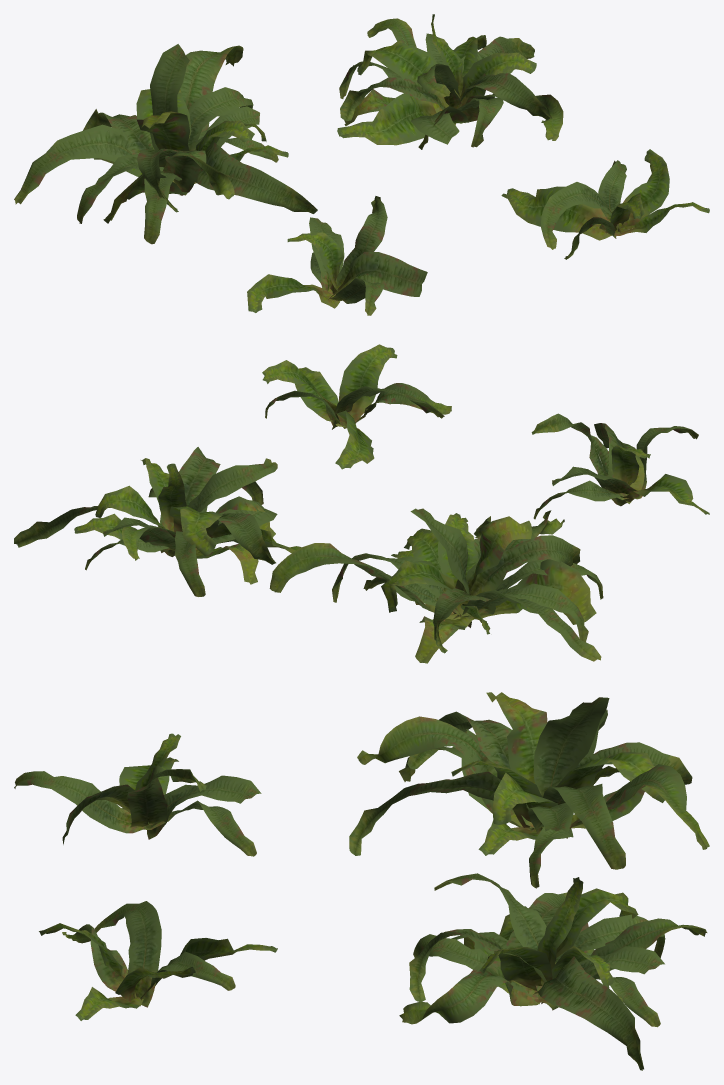
File: fern_02.glb
3 renders of one model, top to bottom at view 1: azimuth 30°, elevation 25°; view 2: azimuth 150°, elevation 25°; view 3: azimuth 270°, elevation 25°, orthographic. The views are drawn at different scales.
Visible parts, largest first — view 1: fern_02_b, fern_02_c, fern_02_d, fern_02_a; view 2: fern_02_b, fern_02_c, fern_02_d, fern_02_a; view 3: fern_02_b, fern_02_c, fern_02_a, fern_02_d.
Boxes of the visible parts, <box> form: fern_02_b: <box>14,44,317,244</box>; fern_02_c: <box>337,14,563,149</box>; fern_02_d: <box>501,149,709,259</box>; fern_02_a: <box>247,196,427,315</box>; fern_02_b: <box>269,508,603,663</box>; fern_02_c: <box>14,447,301,596</box>; fern_02_d: <box>262,344,451,469</box>; fern_02_a: <box>531,413,709,519</box>; fern_02_b: <box>349,692,709,888</box>; fern_02_c: <box>399,873,707,1070</box>; fern_02_a: <box>14,733,261,856</box>; fern_02_d: <box>39,901,277,1020</box>.
Bounding box in the file's own units: 1.97 × 0.4277 × 1.72.
1 material, 1 textured.
